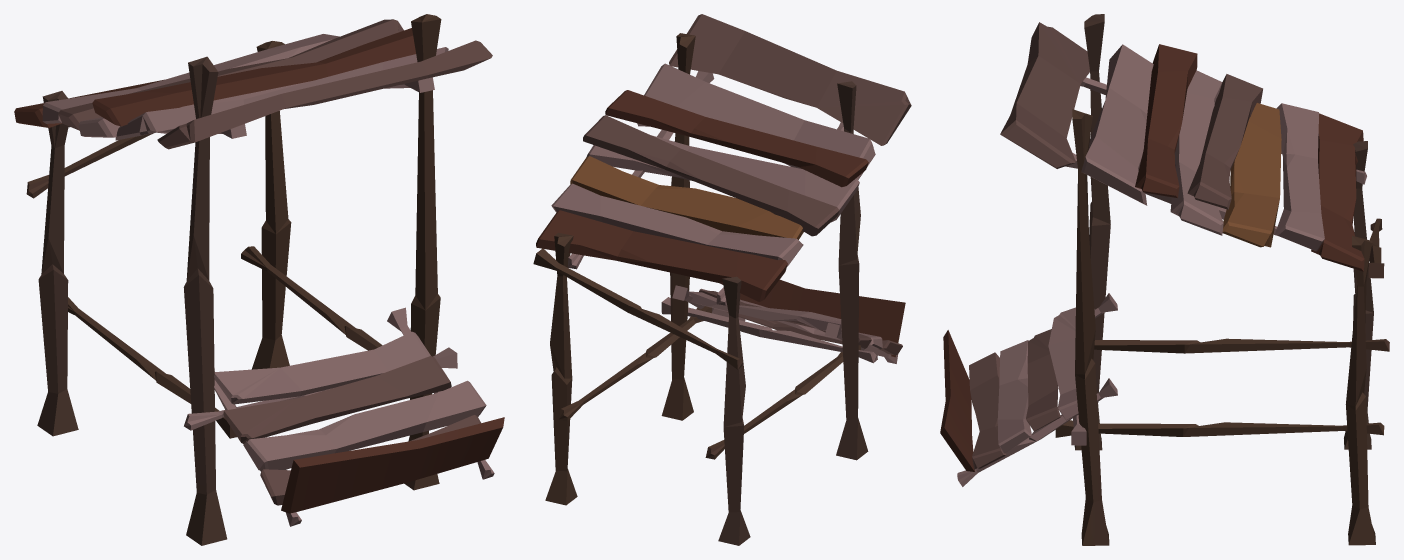
Rendered from SM_L_Stand.fbx.
3 renders of one model, left to right at view 1: azimuth 30°, elevation 25°; view 2: azimuth 150°, elevation 25°; view 3: azimuth 270°, elevation 25°, orthographic. The views are drawn at different scales.
Visible parts, largest first — view 1: SM_L_Stand; view 2: SM_L_Stand; view 3: SM_L_Stand.
Part boxes in pixels (x1,y1,x2,y2): SM_L_Stand: (14,14,504,545); SM_L_Stand: (533,14,911,545); SM_L_Stand: (940,14,1389,545).
Size of the model in its own units: 220 by 306 by 291.
